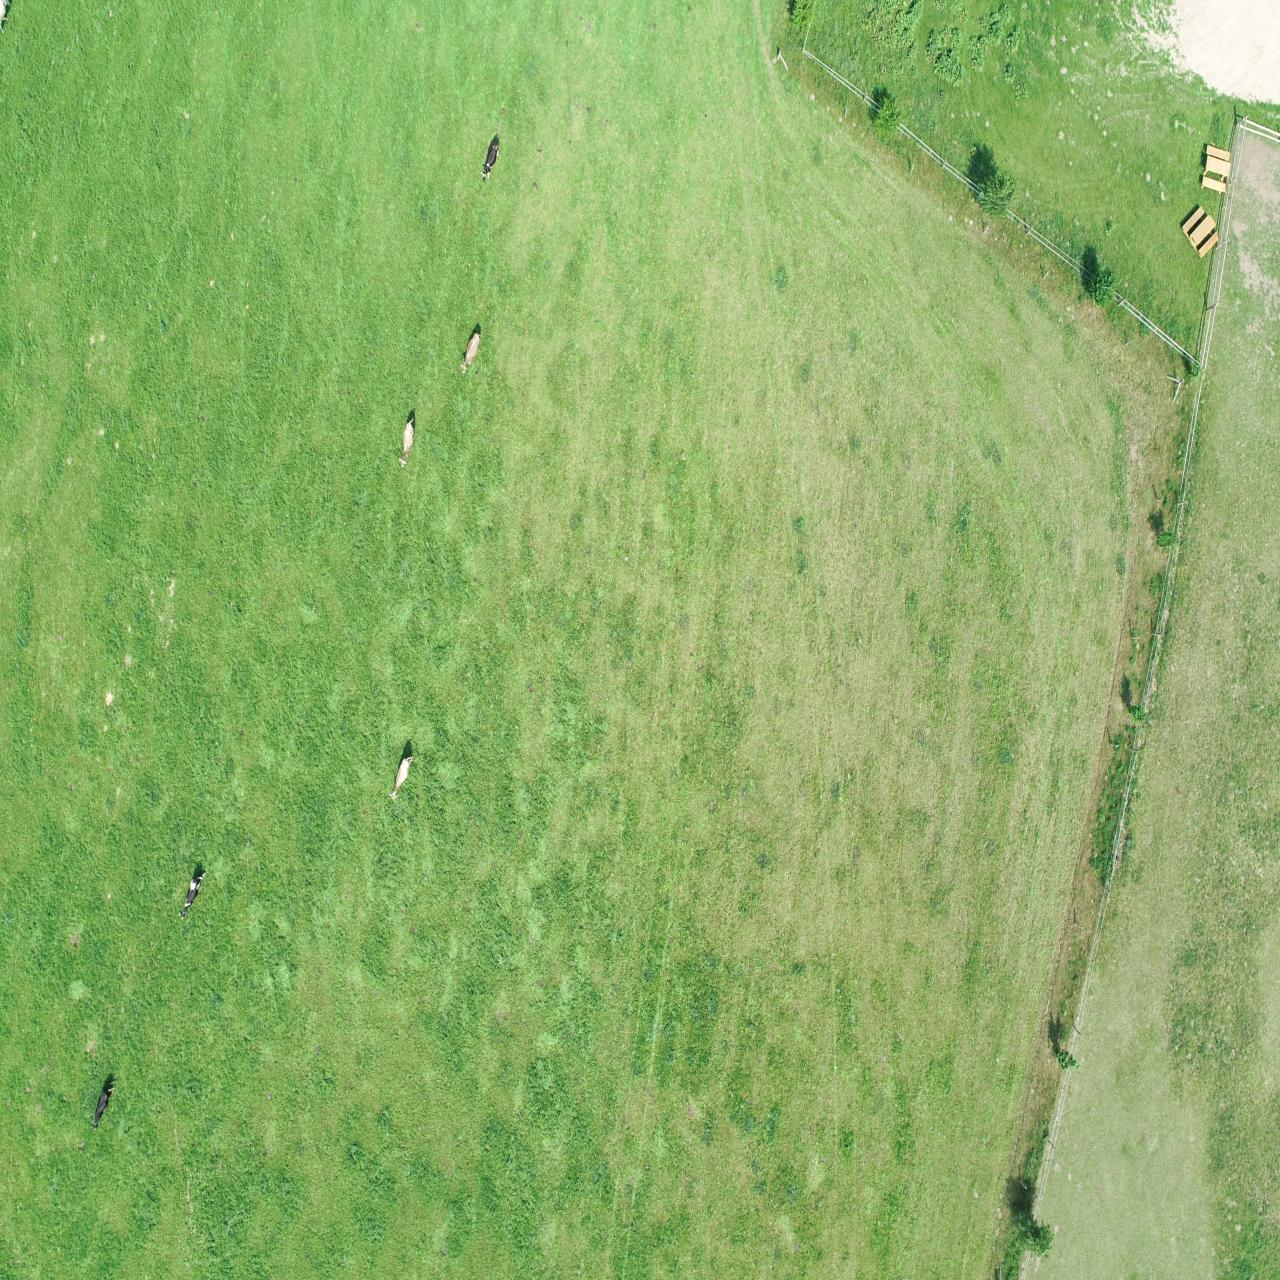cow: (83, 1077, 125, 1133), (177, 866, 211, 922), (476, 131, 509, 188), (387, 754, 415, 806), (457, 329, 486, 377), (395, 416, 417, 471)
